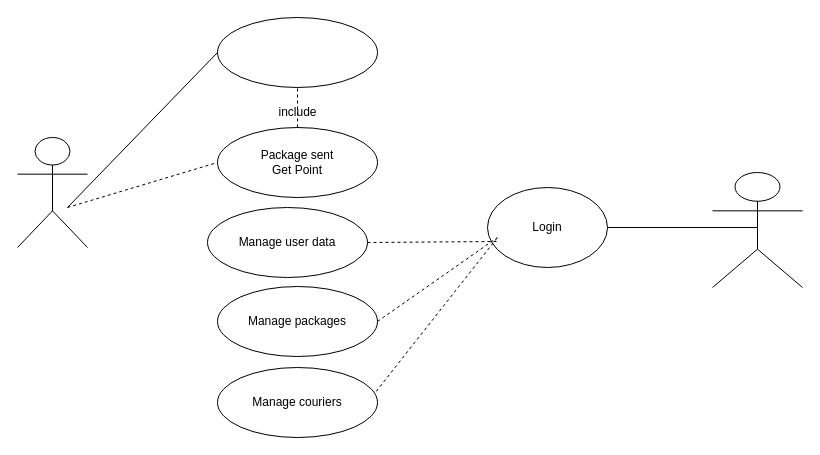
Image size: 820x455. Some labels were removed from this diagram. Here are the shapes that lost their labels. From the top down, the centre of each, then its label:
point 297,52: Send package
point 52,192: Users
point 757,230: Admin
